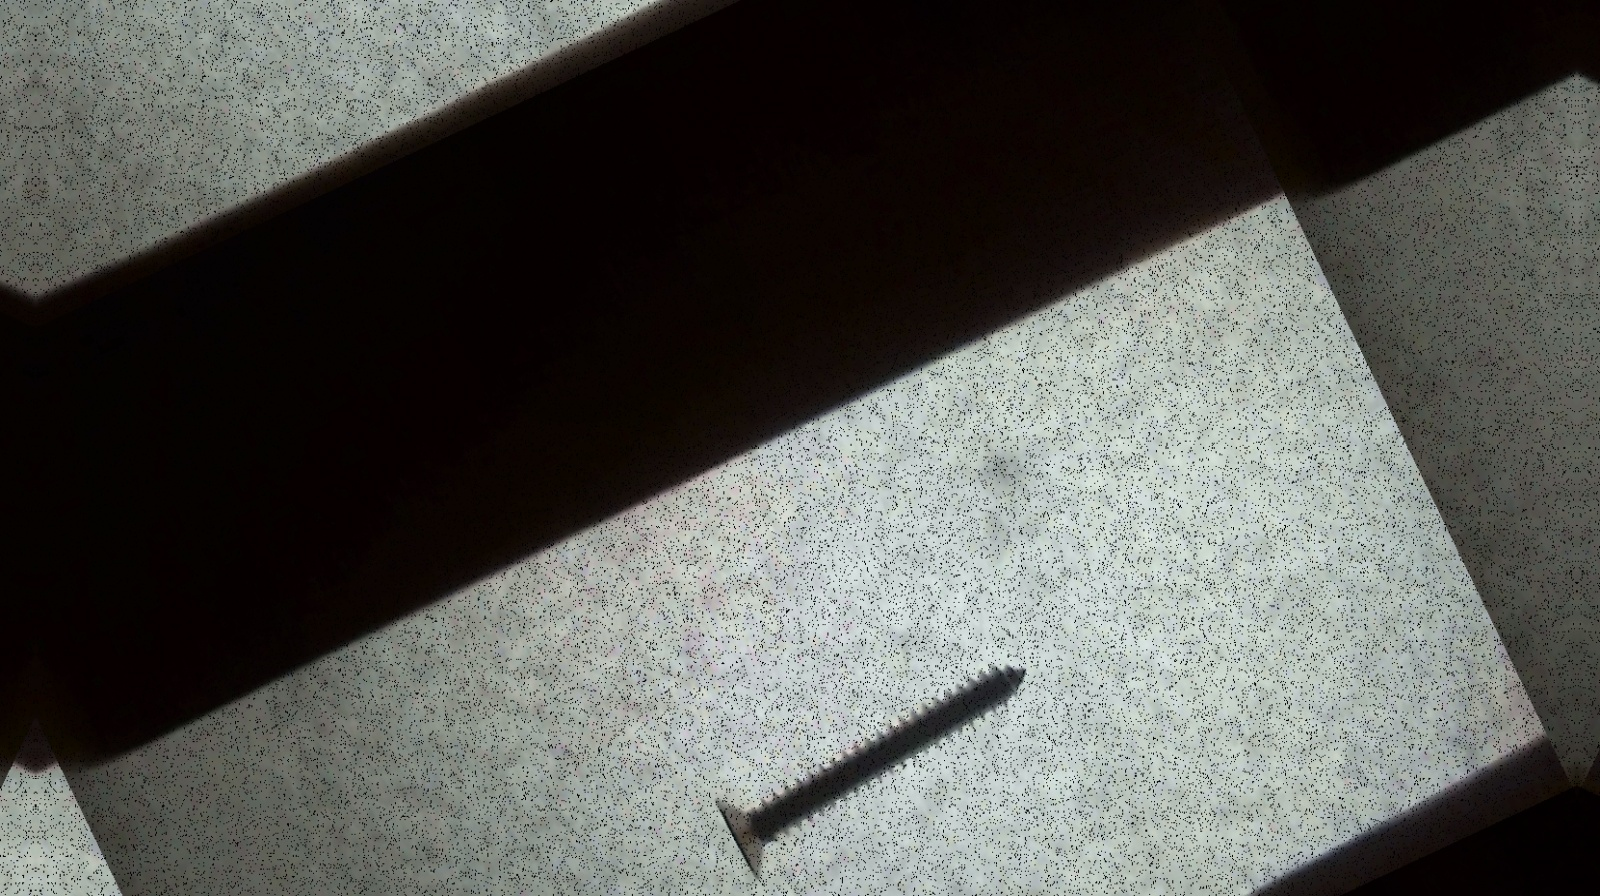S002: (671, 617, 1102, 895)
